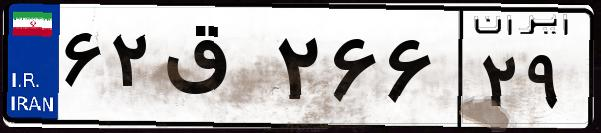2: (270, 28, 330, 110), (475, 38, 525, 113), (110, 28, 158, 98)
6: (385, 28, 445, 110), (330, 28, 385, 110), (57, 26, 110, 100)
9: (525, 38, 570, 115)
ق: (158, 20, 270, 120)
